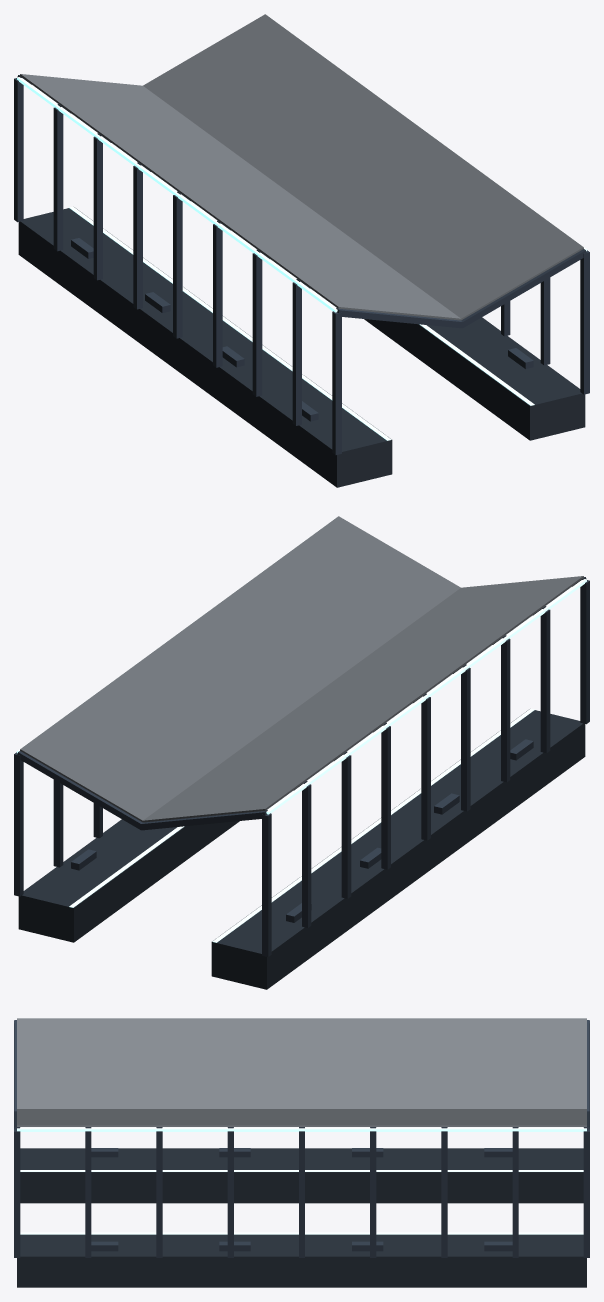
File: shaddai_station_suburb_v01.glb
3 renders of one model, top to bottom at view 1: azimuth 30°, elevation 25°; view 2: azimuth 150°, elevation 25°; view 3: azimuth 270°, elevation 25°, orthographic. The views are drawn at different scales.
Parts seen in each view (by area): view 1: shaddai_station_suburb; view 2: shaddai_station_suburb; view 3: shaddai_station_suburb.
Boxes of the visible parts, left/top/right/bottom form: shaddai_station_suburb: left=14, top=14, right=589, bottom=487; shaddai_station_suburb: left=14, top=516, right=589, bottom=989; shaddai_station_suburb: left=14, top=1018, right=589, bottom=1287.
Size of the model in its own units: 18.44 by 12.52 by 40.44.
